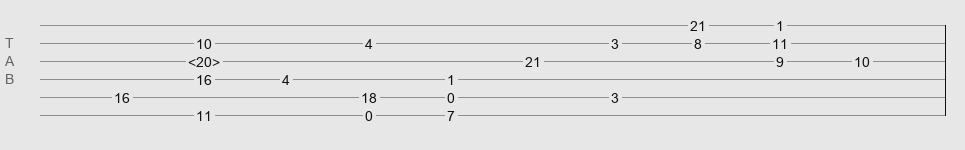0: (365, 108, 373, 118), (447, 90, 455, 100)
1: (447, 72, 455, 82), (776, 18, 784, 28)
10: (196, 36, 212, 46), (854, 54, 870, 64)
11: (196, 108, 212, 118), (772, 36, 788, 46)
16: (114, 90, 130, 100), (196, 72, 212, 82)
18: (361, 90, 377, 100)
21: (525, 54, 541, 64), (690, 18, 706, 28)
3: (611, 90, 619, 100), (611, 36, 619, 46)
4: (282, 72, 290, 82), (365, 36, 373, 46)
7: (447, 108, 455, 118)
8: (694, 36, 702, 46)
9: (776, 54, 784, 64)
harmonic: (188, 54, 220, 64)
